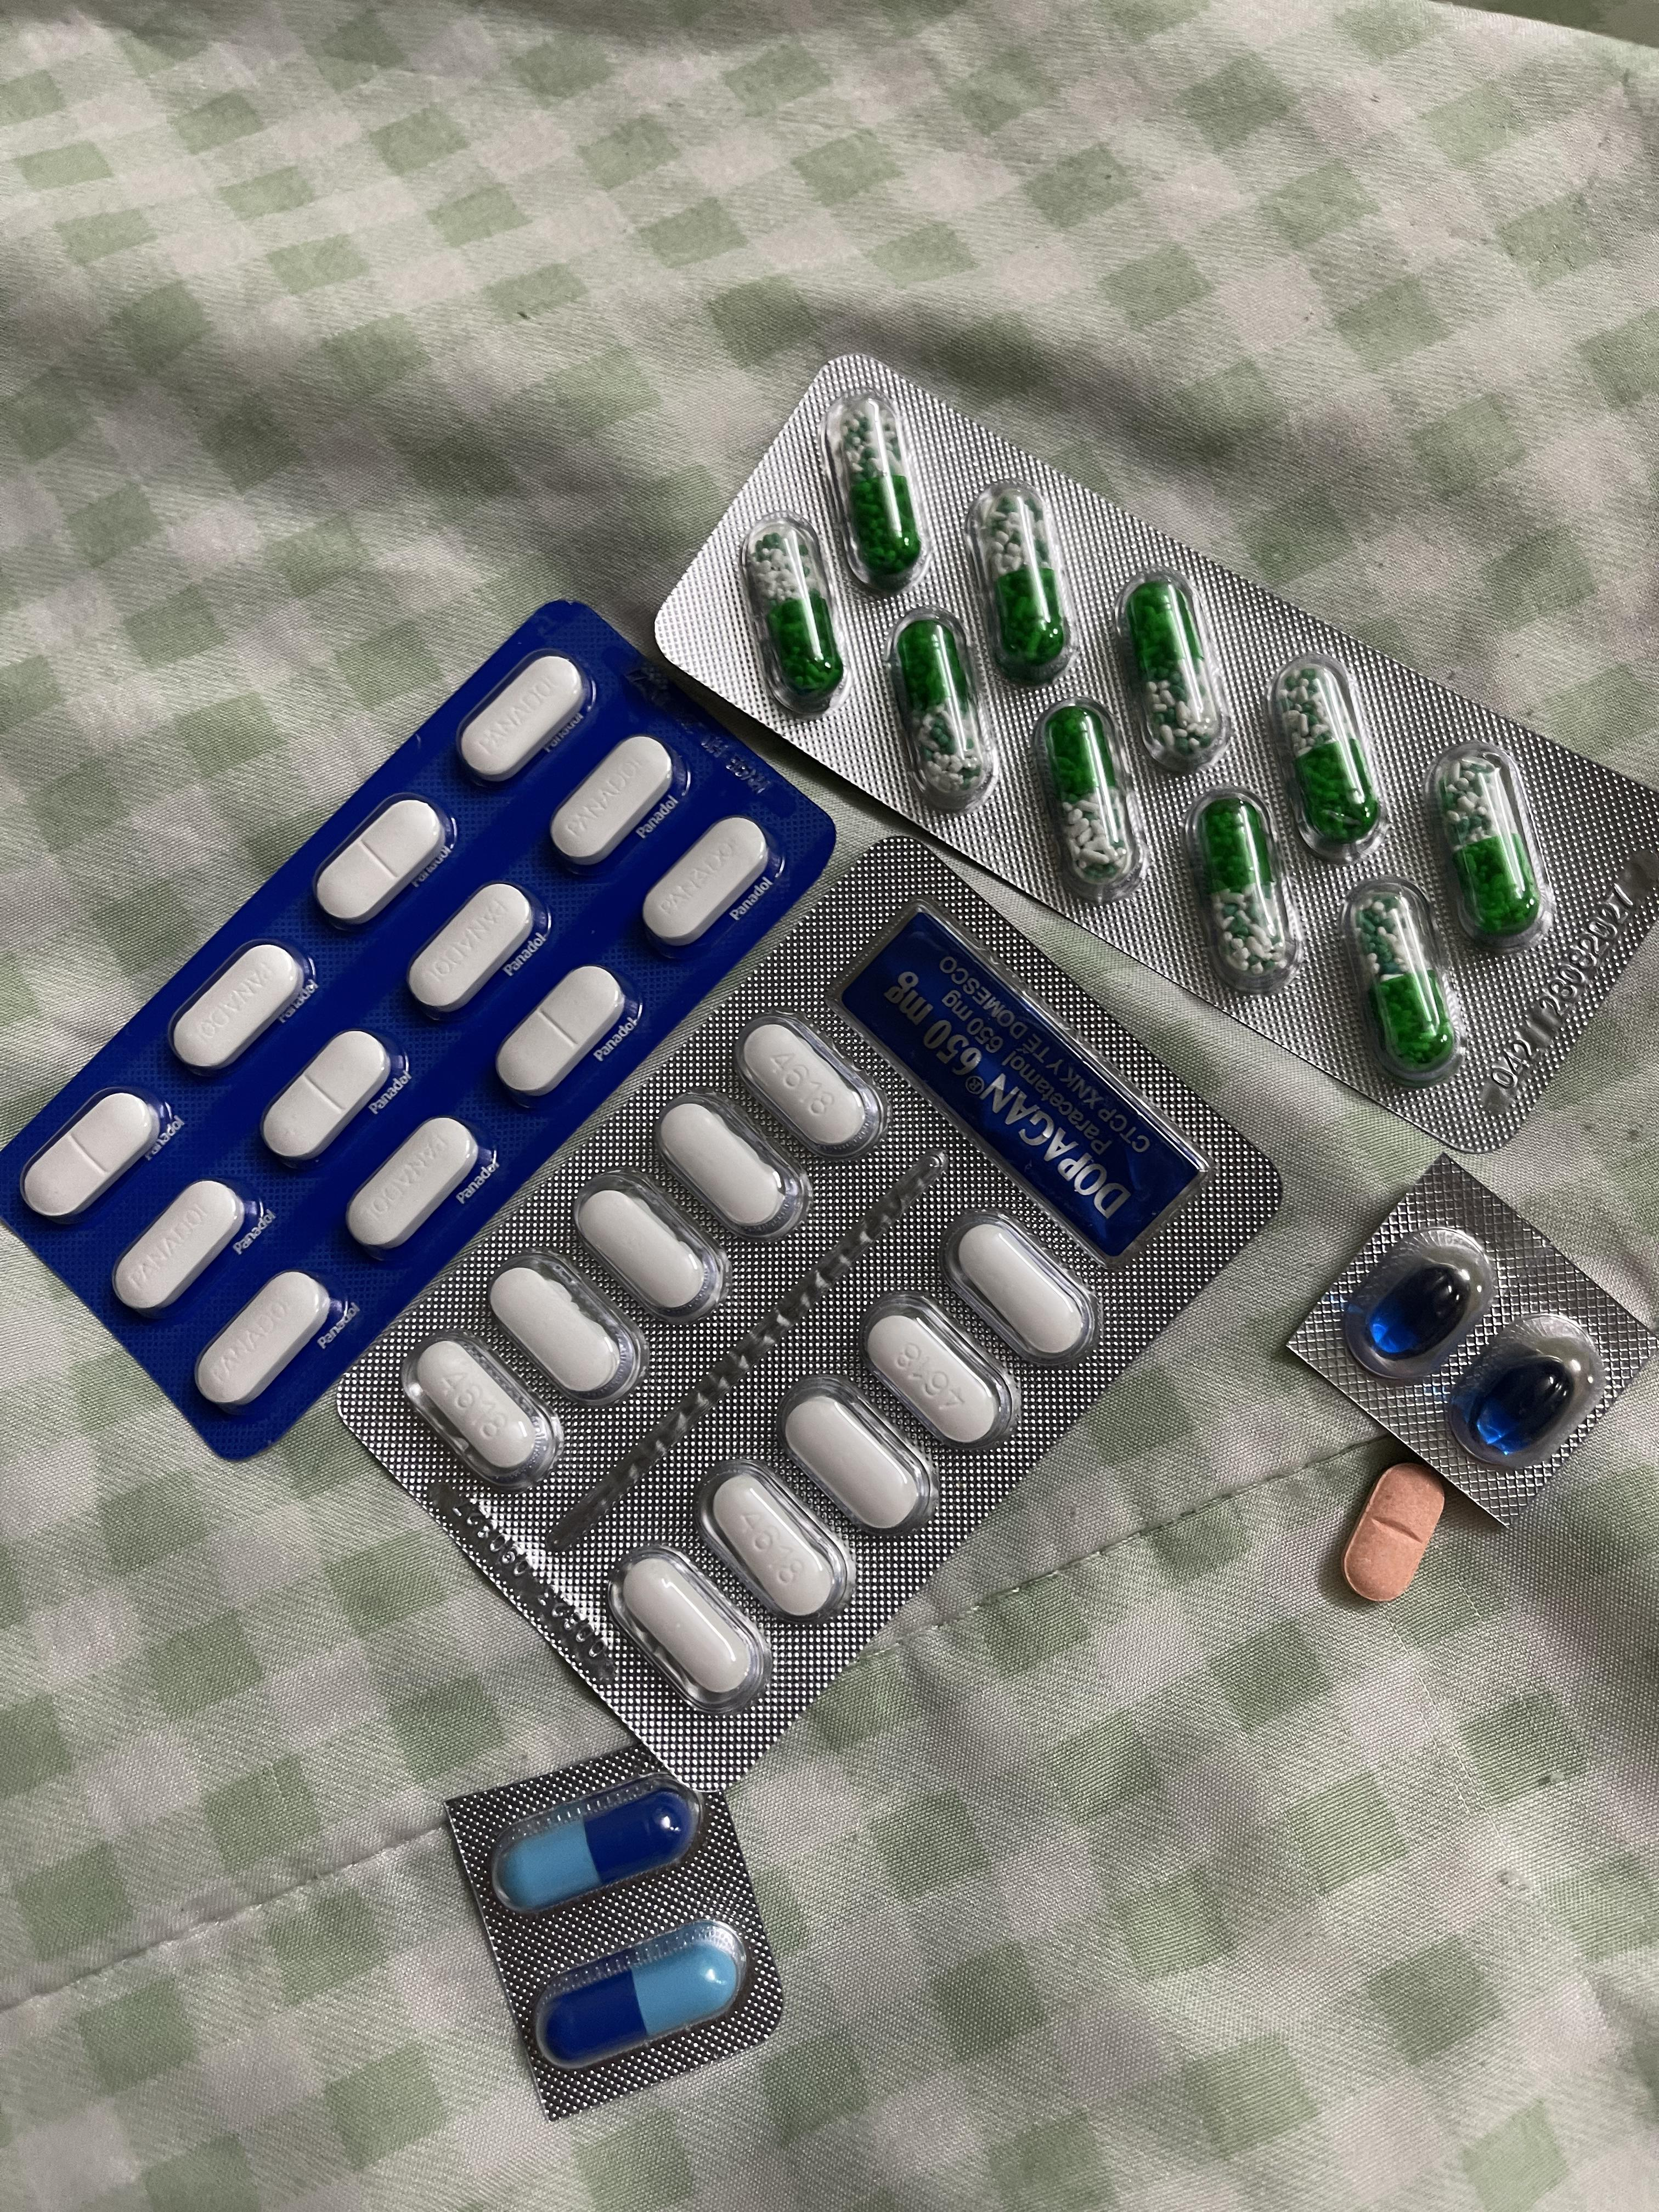Lincomyxin_500mg: (1462, 1355, 1575, 1454), (1366, 1263, 1471, 1357)
Loratadine_10mg: (1345, 1461, 1450, 1602)
Paracetamol_350mg: (195, 1270, 340, 1416), (347, 1113, 488, 1263), (113, 1176, 260, 1318), (498, 963, 640, 1109), (21, 1087, 166, 1224), (169, 937, 310, 1075), (260, 1029, 396, 1169), (408, 881, 544, 1019), (643, 815, 777, 954), (314, 796, 451, 930), (549, 735, 680, 873), (460, 653, 589, 784)
Paracetamol_500mg: (777, 1376, 941, 1536), (857, 1289, 1016, 1451), (488, 1251, 647, 1404), (403, 1334, 559, 1486), (730, 1017, 871, 1170), (624, 1552, 762, 1688), (657, 1092, 791, 1231), (711, 1474, 843, 1615), (575, 1181, 709, 1317), (957, 1216, 1087, 1348)
Paracetamol_650mg: (884, 606, 1000, 815), (824, 385, 932, 599), (1185, 784, 1298, 986), (965, 482, 1072, 690), (739, 516, 843, 718), (1030, 697, 1138, 892), (1276, 655, 1375, 843), (1438, 756, 1537, 932), (1354, 895, 1448, 1068), (1131, 585, 1216, 765)
pill: (532, 1919, 753, 2071), (488, 1778, 702, 1916)
